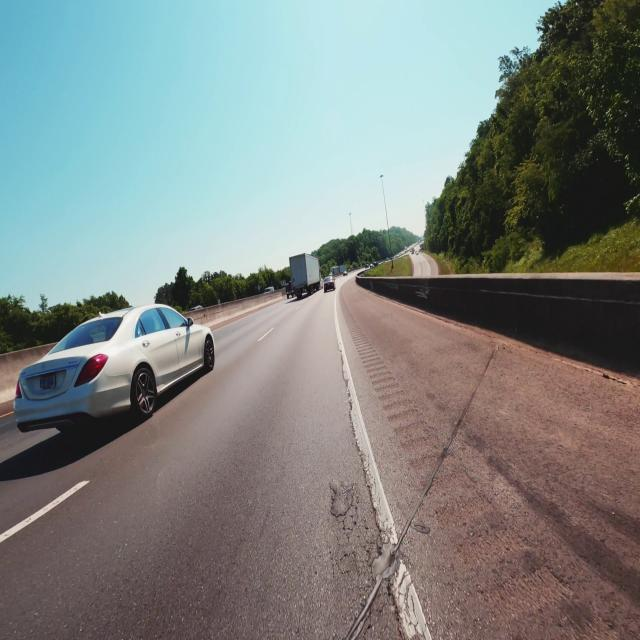car: (14, 305, 214, 431), (323, 276, 335, 292)
